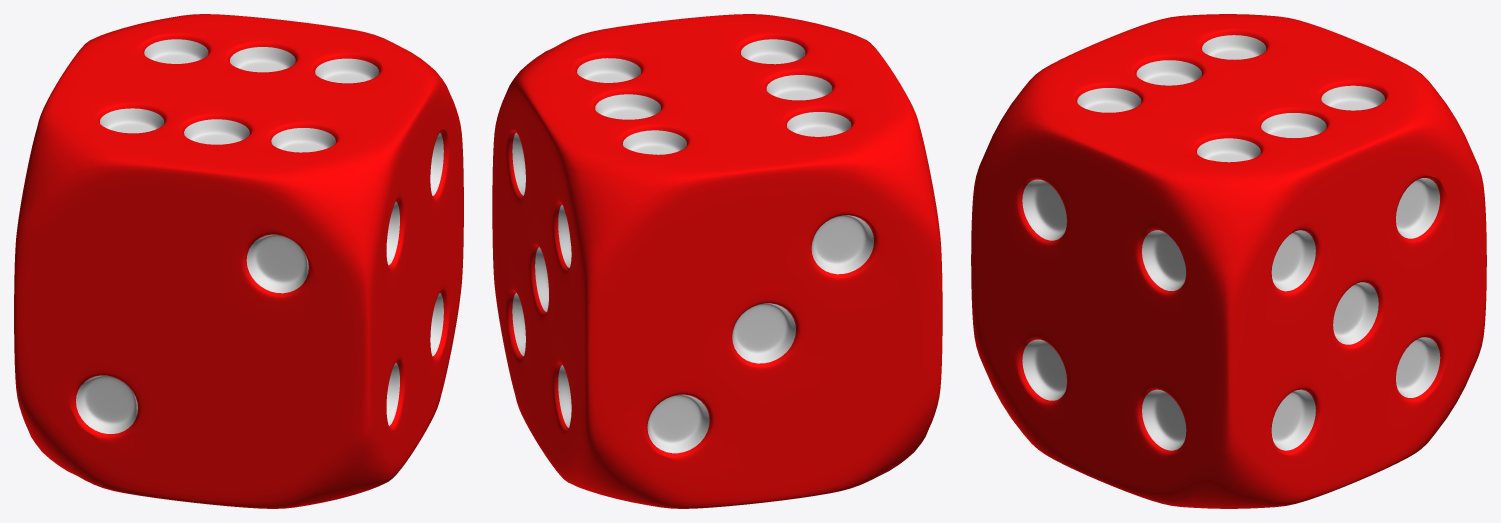
3 views of the same model, side by side, from view 1: azimuth 30°, elevation 25°; view 2: azimuth 150°, elevation 25°; view 3: azimuth 270°, elevation 25° (orthographic).
Parts seen in each view (by area): view 1: Cube; view 2: Cube; view 3: Cube.
Boxes of the visible parts, <box> form: Cube: <box>14,14,463,508</box>; Cube: <box>492,14,942,508</box>; Cube: <box>971,14,1486,508</box>.
Size of the model in its own units: 2.8 by 2 by 2.8.
